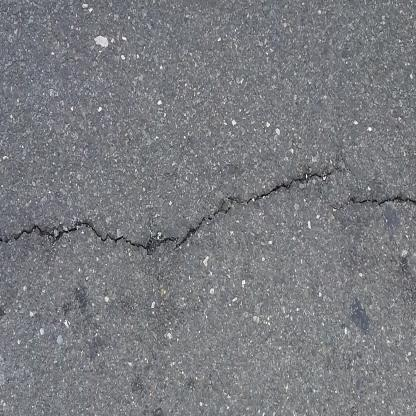Cracks: (0, 169, 337, 265), (348, 124, 416, 223)
